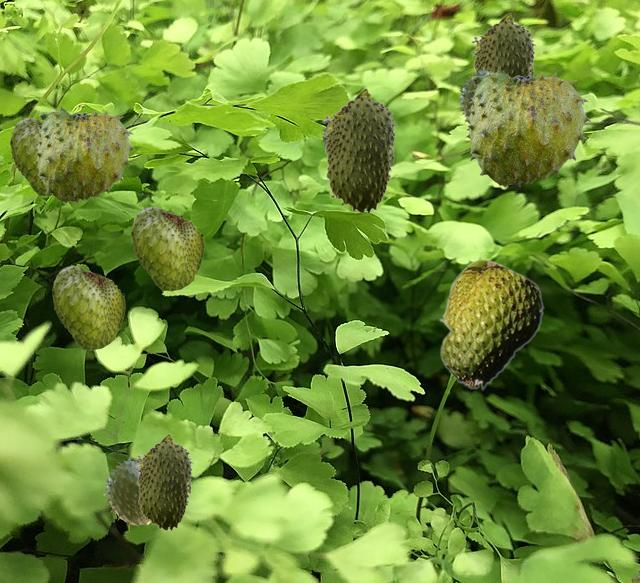guyabano: (464, 66, 590, 186), (438, 258, 543, 390), (33, 105, 134, 202), (322, 87, 397, 213), (52, 264, 124, 349), (131, 205, 203, 290), (135, 433, 193, 530), (471, 12, 536, 76), (103, 457, 150, 530), (10, 116, 52, 195), (457, 67, 494, 123)
